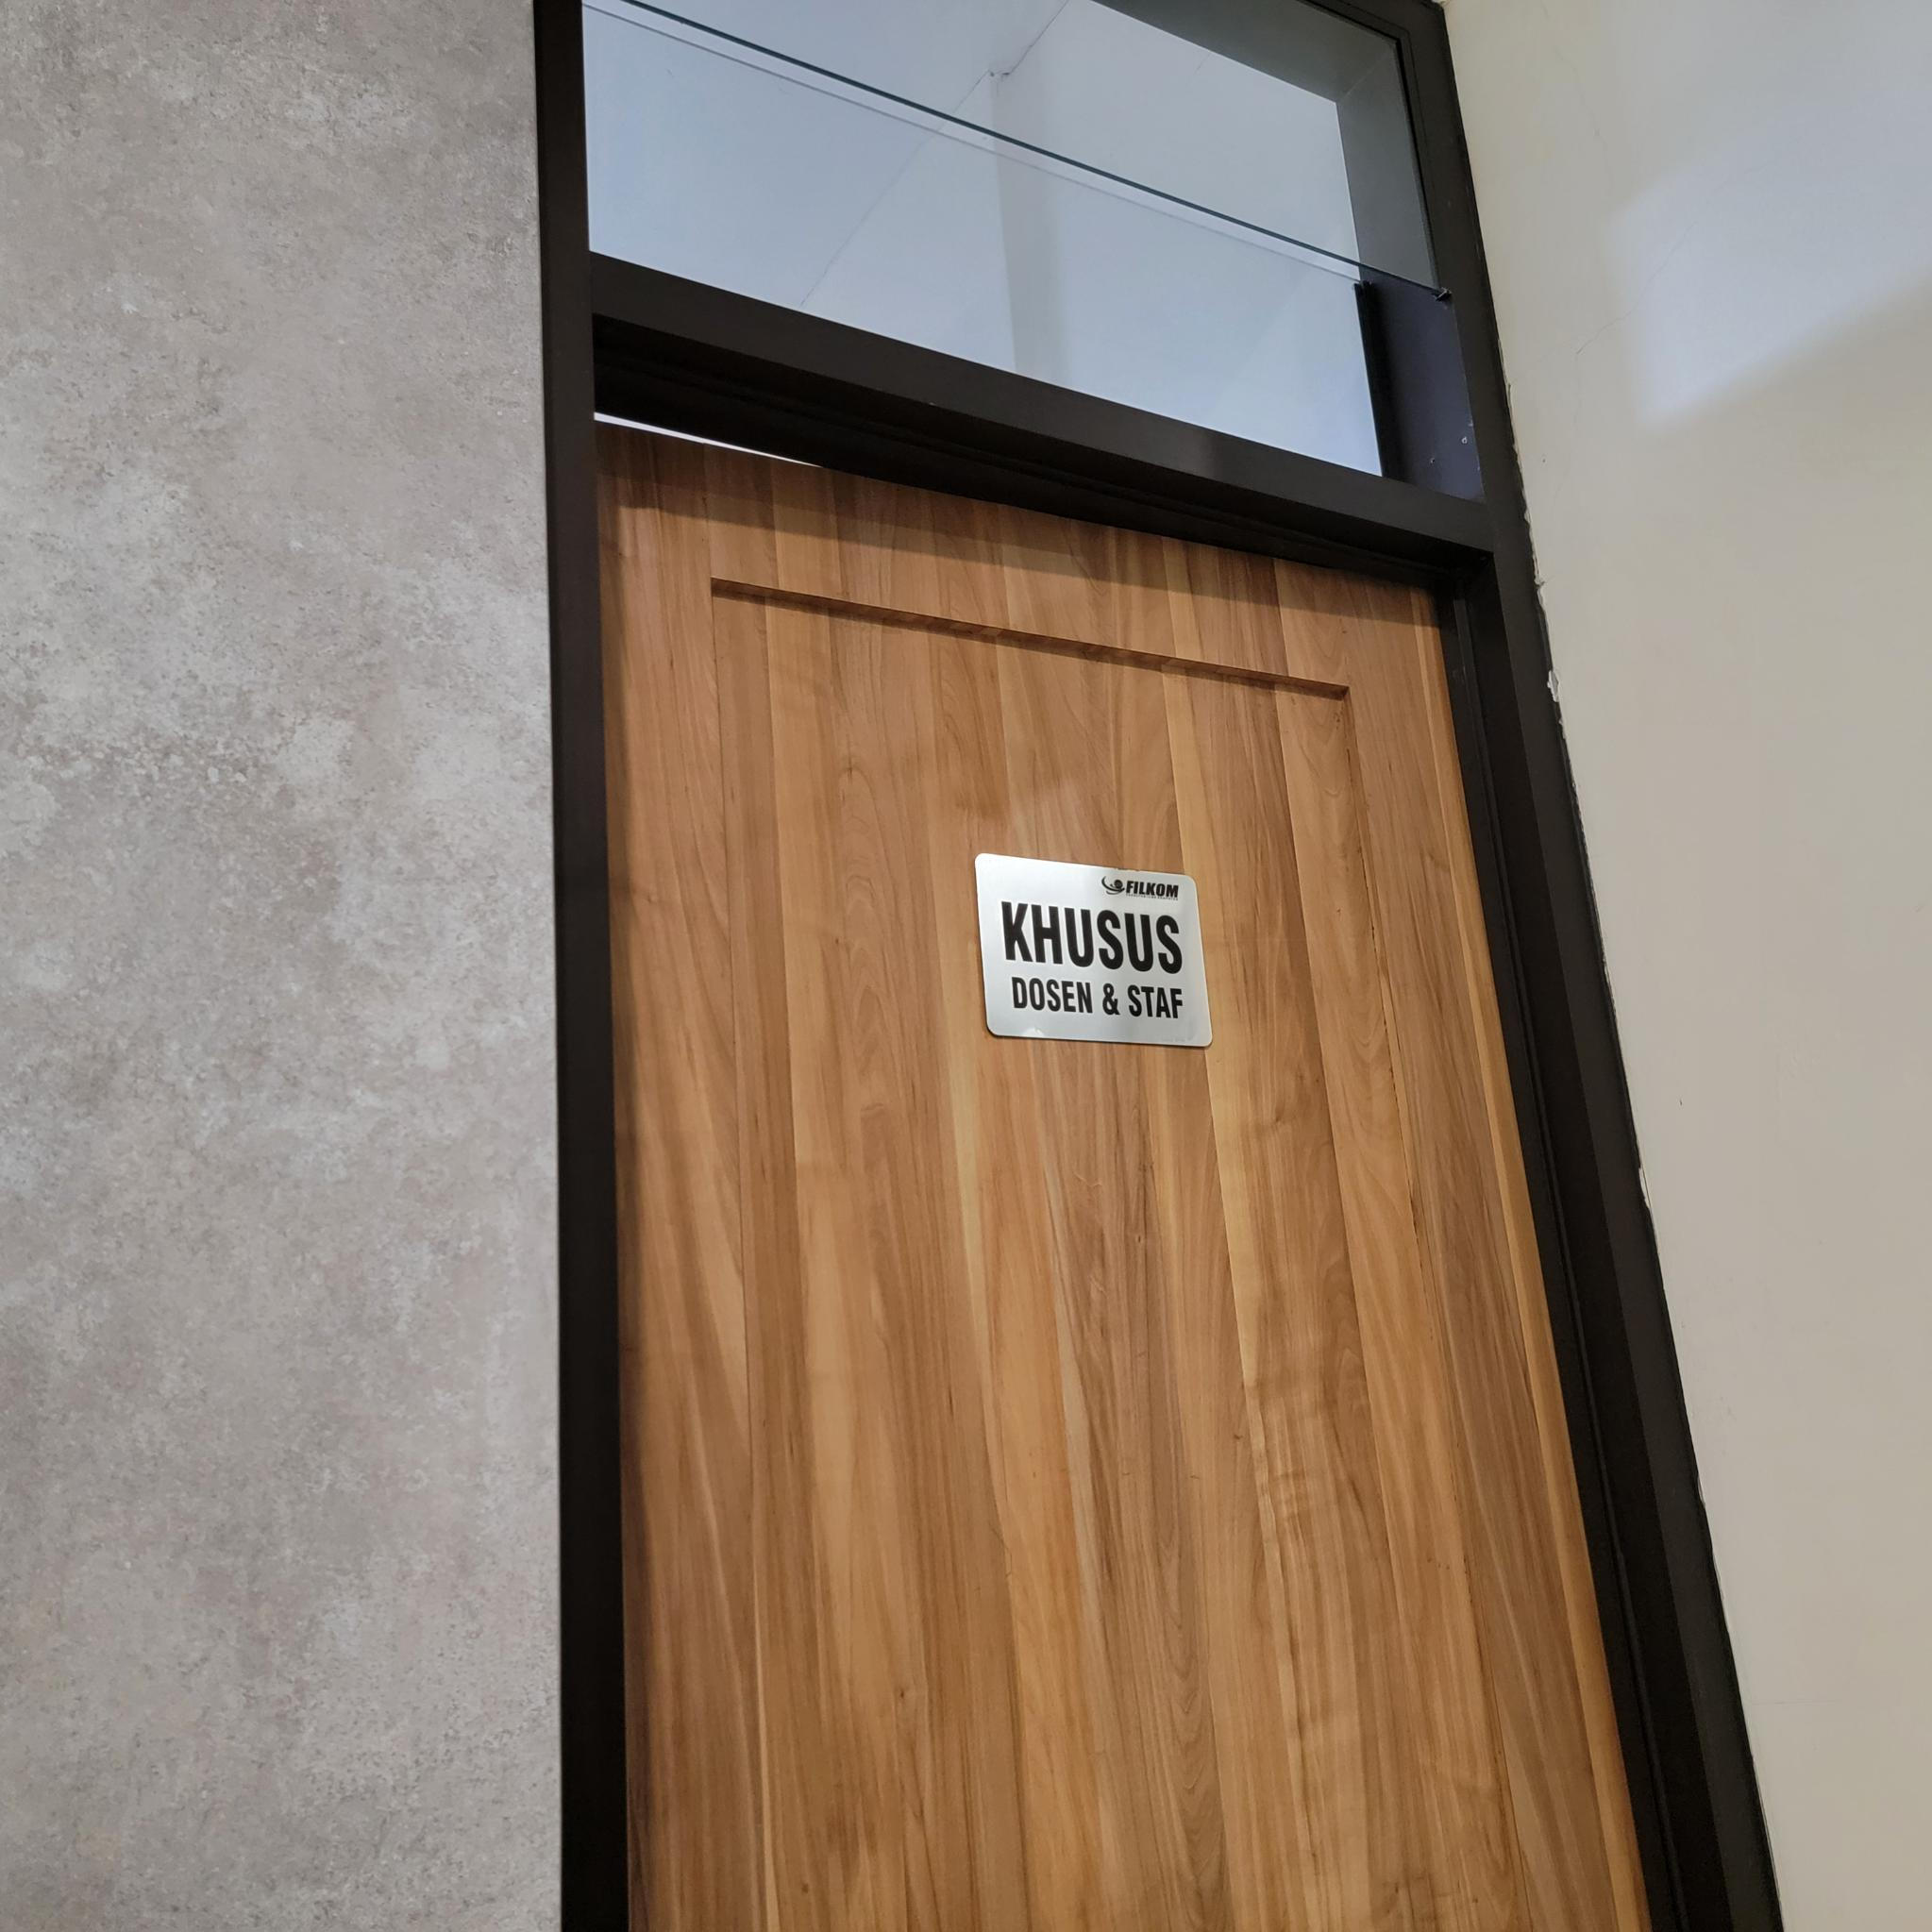plate: (975, 853, 1214, 1051)
